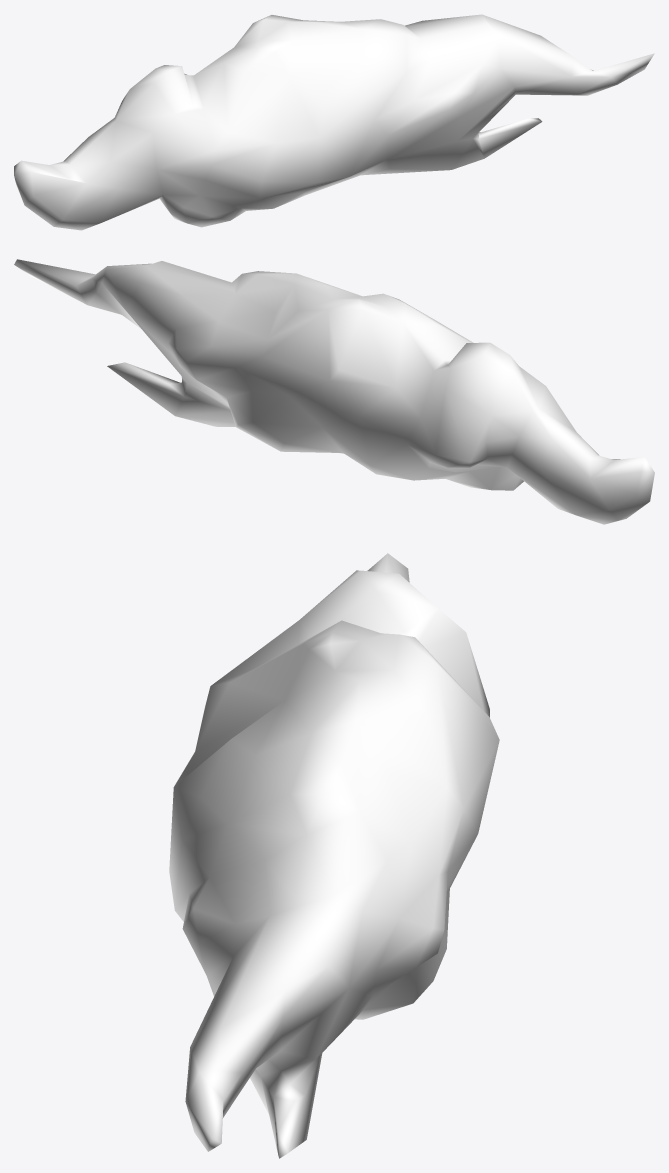
The model's file is Cloud3.fbx.
3 renders of one model, top to bottom at view 1: azimuth 30°, elevation 25°; view 2: azimuth 150°, elevation 25°; view 3: azimuth 270°, elevation 25°, orthographic. The views are drawn at different scales.
Visible parts, largest first — view 1: Cloud3; view 2: Cloud3; view 3: Cloud3.
Boxes of the visible parts, <box> form: Cloud3: <box>14,14,654,230</box>; Cloud3: <box>14,259,654,524</box>; Cloud3: <box>169,553,499,1158</box>.
Size of the model in its own units: 607 by 162 by 145.
1 material, 1 textured.
